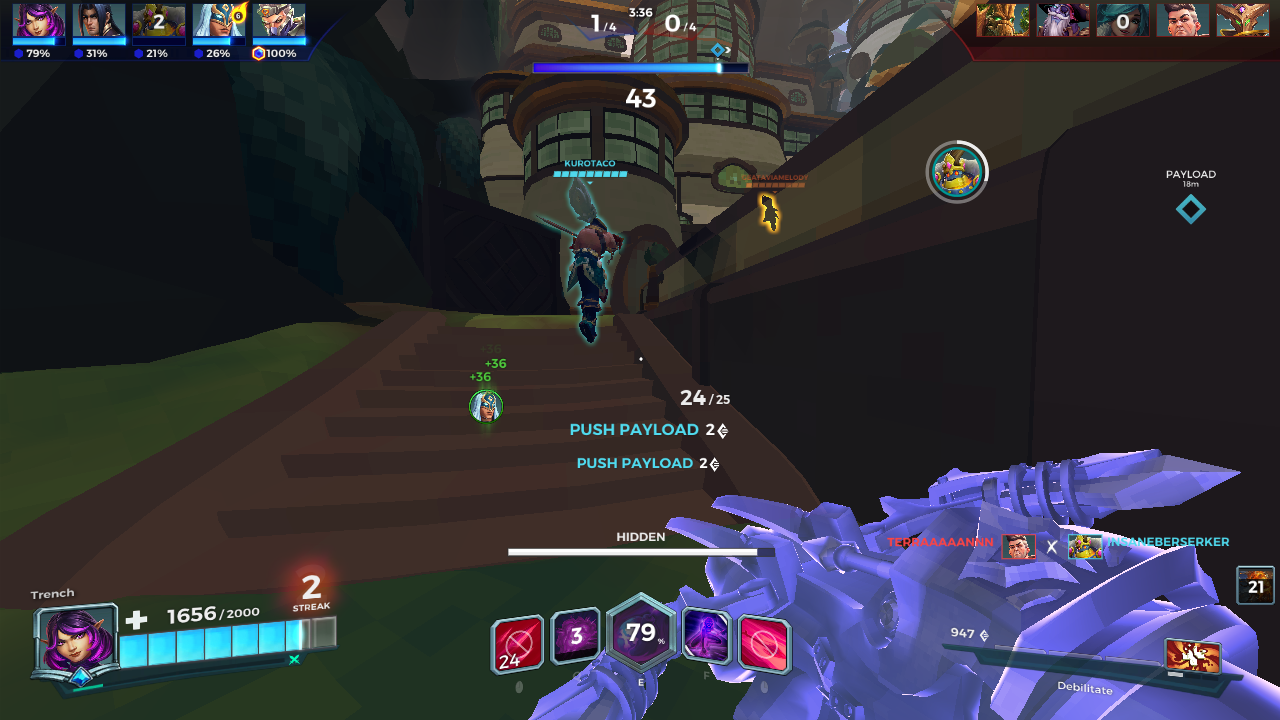model: (758, 194, 782, 233)
